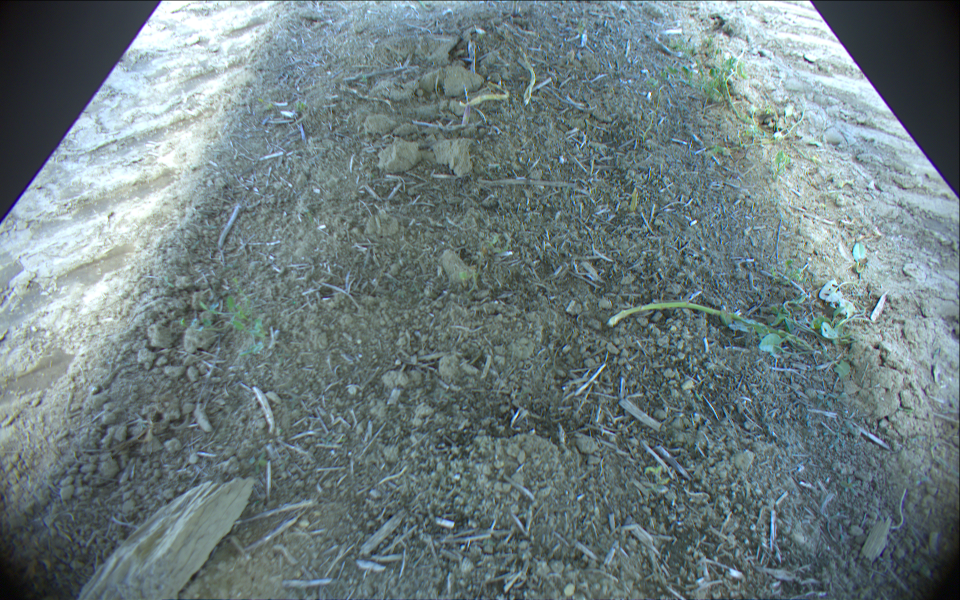aspa: (607, 302, 811, 351), (520, 47, 536, 106), (452, 94, 510, 107), (460, 91, 470, 129), (468, 42, 476, 71), (629, 187, 638, 212)
